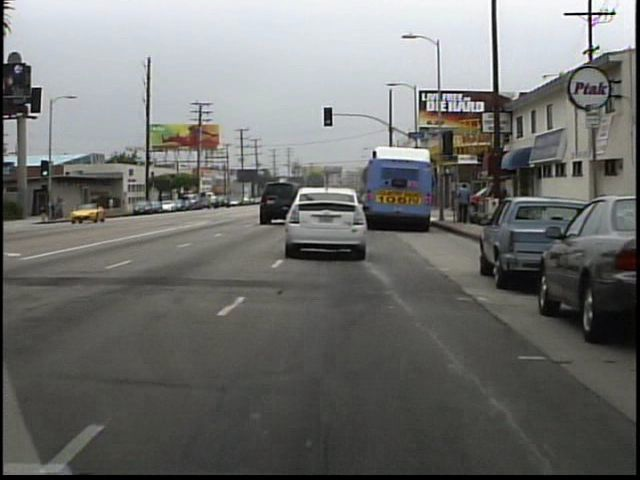person: (452, 181, 472, 226), (108, 192, 116, 218)
